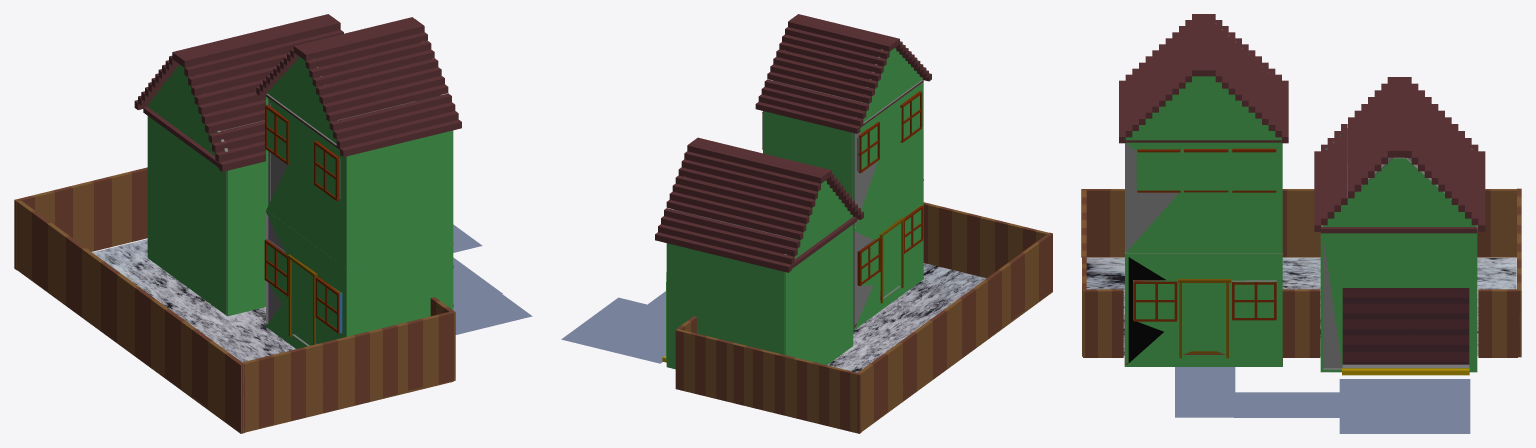
The model's file is casa.obj.
The picture shows the model from 3 angles, left to right: view 1: azimuth 30°, elevation 25°; view 2: azimuth 150°, elevation 25°; view 3: azimuth 270°, elevation 25°; orthographic projection. The views are drawn at different scales.
Visible parts, largest first — view 1: pasted__pasted__pCube5 pasted__group33 group99, group14_pasted__group12_pasted__pasted__group11_pasted__pasted__, pasted__pCube5 group33, pasted__group14_pasted__group12_pasted__pasted__group11_pasted__, pasted__pasted__pCube2 pasted__group2 group8, pasted__pasted__pCube1 pasted__group group24, group43_pasted__group40_pasted__pasted__group39_pasted__pasted__, polySurface17, polySurface9, pPlane1, pasted__pCube2 group2, pasted__pasted__pasted__pCube1 pasted__pasted__group pasted__gro (+9 smaller); view 2: pasted__group14_pasted__group12_pasted__pasted__group11_pasted__, pasted__pasted__pCube5 pasted__group33 group99, group14_pasted__group12_pasted__pasted__group11_pasted__pasted__, polySurface9, pasted__pasted__pasted__pCube1 pasted__pasted__group pasted__gro, pasted__pasted__pCube1 pasted__group group24, group43_pasted__group40_pasted__pasted__group39_pasted__pasted__, polySurface17, pasted__pCube5 group33, pPlane1, pPlane2, pasted__pasted__pasted__pCube2 pasted__pasted__group2 pasted__gr (+4 smaller); view 3: pasted__pasted__pasted__pasted__pasted__polySurface2, polySurface18, pasted__group14_pasted__group12_pasted__pasted__group11_pasted__, group27_pasted__group24_pasted__pasted__group_pasted__pasted__pa, group14_pasted__group12_pasted__pasted__group11_pasted__pasted__, polySurface5 group27_pasted__group24_pasted__pasted__group_paste, pasted__pasted__pCube5 pasted__group33 group99, pPlane2, pasted__pasted__pasted__pasted__pCube1 pasted__pasted__pasted__g, pCube4, pasted__pasted__pasted__pCube5 pasted__pasted__group33 pasted__g, pPlane1 (+15 smaller).
Part boxes in pixels (left/top/right/bottom): pasted__pasted__pCube5 pasted__group33 group99: left=15, top=199, right=244, bottom=433; group14_pasted__group12_pasted__pasted__group11_pasted__pasted__: left=256, top=17, right=461, bottom=156; pasted__pCube5 group33: left=242, top=311, right=453, bottom=432; pasted__group14_pasted__group12_pasted__pasted__group11_pasted__: left=134, top=14, right=343, bottom=171; pasted__pasted__pCube2 pasted__group2 group8: left=349, top=131, right=450, bottom=268; pasted__pasted__pCube1 pasted__group group24: left=148, top=116, right=227, bottom=315; group43_pasted__group40_pasted__pasted__group39_pasted__pasted__: left=266, top=97, right=349, bottom=268; polySurface17: left=266, top=212, right=349, bottom=348; polySurface9: left=14, top=167, right=147, bottom=270; pPlane1: left=92, top=239, right=295, bottom=362; pasted__pCube2 group2: left=349, top=245, right=450, bottom=335; pasted__pasted__pasted__pCube1 pasted__pasted__group pasted__gro: left=147, top=116, right=265, bottom=316; pasted__group14_pasted__group12_pasted__pasted__group11_pasted__: left=655, top=137, right=863, bottom=272; pasted__pasted__pCube5 pasted__group33 group99: left=858, top=232, right=1052, bottom=431; group14_pasted__group12_pasted__pasted__group11_pasted__pasted__: left=755, top=14, right=931, bottom=133; polySurface9: left=675, top=329, right=861, bottom=433; pasted__pasted__pasted__pCube1 pasted__pasted__group pasted__gro: left=666, top=243, right=785, bottom=369; pasted__pasted__pCube1 pasted__group group24: left=785, top=224, right=853, bottom=365; group43_pasted__group40_pasted__pasted__group39_pasted__pasted__: left=852, top=82, right=923, bottom=229; polySurface17: left=853, top=181, right=923, bottom=327; pasted__pCube5 group33: left=923, top=202, right=1049, bottom=278; pPlane1: left=827, top=263, right=986, bottom=372; pPlane2: left=561, top=297, right=665, bottom=363; pasted__pasted__pasted__pCube2 pasted__pasted__group2 pasted__gr: left=765, top=112, right=852, bottom=199; pasted__pasted__pasted__pasted__pasted__polySurface2: left=1126, top=142, right=1282, bottom=253; polySurface18: left=1127, top=253, right=1282, bottom=364; pasted__group14_pasted__group12_pasted__pasted__group11_pasted__: left=1314, top=77, right=1485, bottom=231; group27_pasted__group24_pasted__pasted__group_pasted__pasted__pa: left=1323, top=233, right=1474, bottom=372; group14_pasted__group12_pasted__pasted__group11_pasted__pasted__: left=1119, top=14, right=1288, bottom=143; polySurface5 group27_pasted__group24_pasted__pasted__group_paste: left=1342, top=288, right=1469, bottom=364; pasted__pasted__pCube5 pasted__group33 group99: left=1081, top=189, right=1516, bottom=257; pPlane2: left=1339, top=379, right=1470, bottom=433; pasted__pasted__pasted__pasted__pCube1 pasted__pasted__pasted__g: left=1323, top=157, right=1476, bottom=226; pCube4: left=1125, top=76, right=1281, bottom=140; pasted__pasted__pasted__pCube5 pasted__pasted__group33 pasted__g: left=1083, top=289, right=1517, bottom=357; pPlane1: left=1086, top=258, right=1516, bottom=356.
Bounding box in the file's own units: 21.24 × 16.68 × 22.18.
